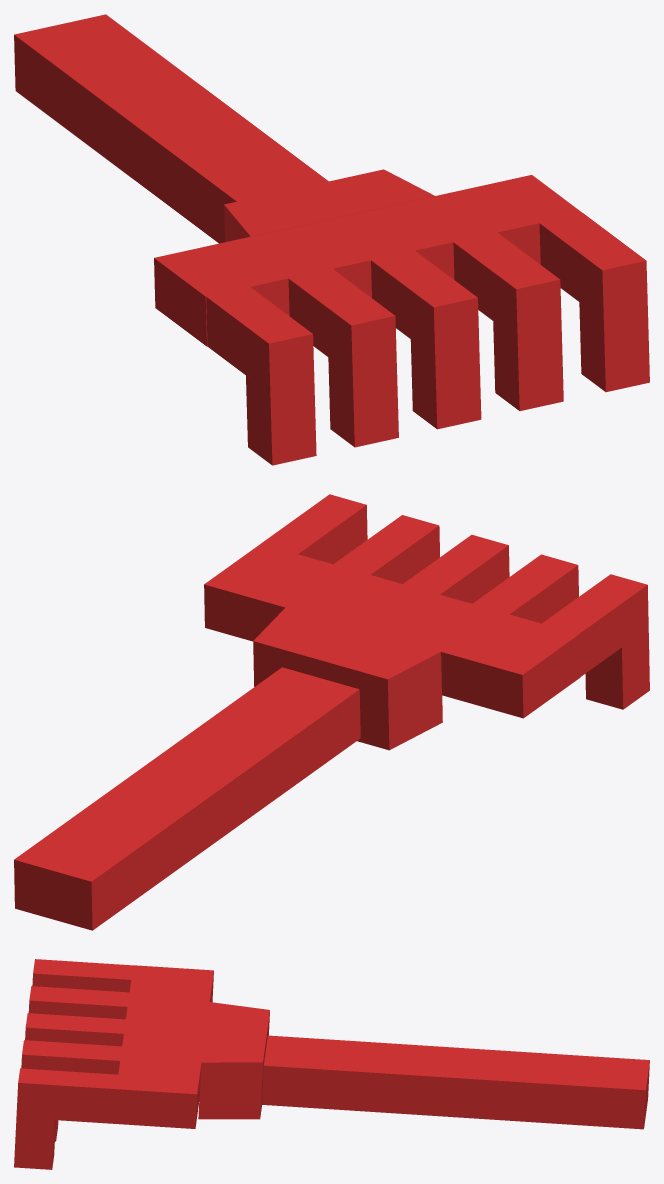
The model's file is Isl_9_Children_rake.fbx.
3 views of the same model, one above another, from view 1: azimuth 30°, elevation 25°; view 2: azimuth 150°, elevation 25°; view 3: azimuth 270°, elevation 25° (orthographic). The views are drawn at different scales.
Visible parts, largest first — view 1: Isl_9_Children_rake; view 2: Isl_9_Children_rake; view 3: Isl_9_Children_rake.
Part boxes in pixels (<box>): Isl_9_Children_rake: <box>14,14,649,465</box>; Isl_9_Children_rake: <box>14,494,649,930</box>; Isl_9_Children_rake: <box>14,959,649,1169</box>.
Bounding box in the file's own units: 14.4 × 29.78 × 4.54.
Materials: 1 (1 with a texture image).
